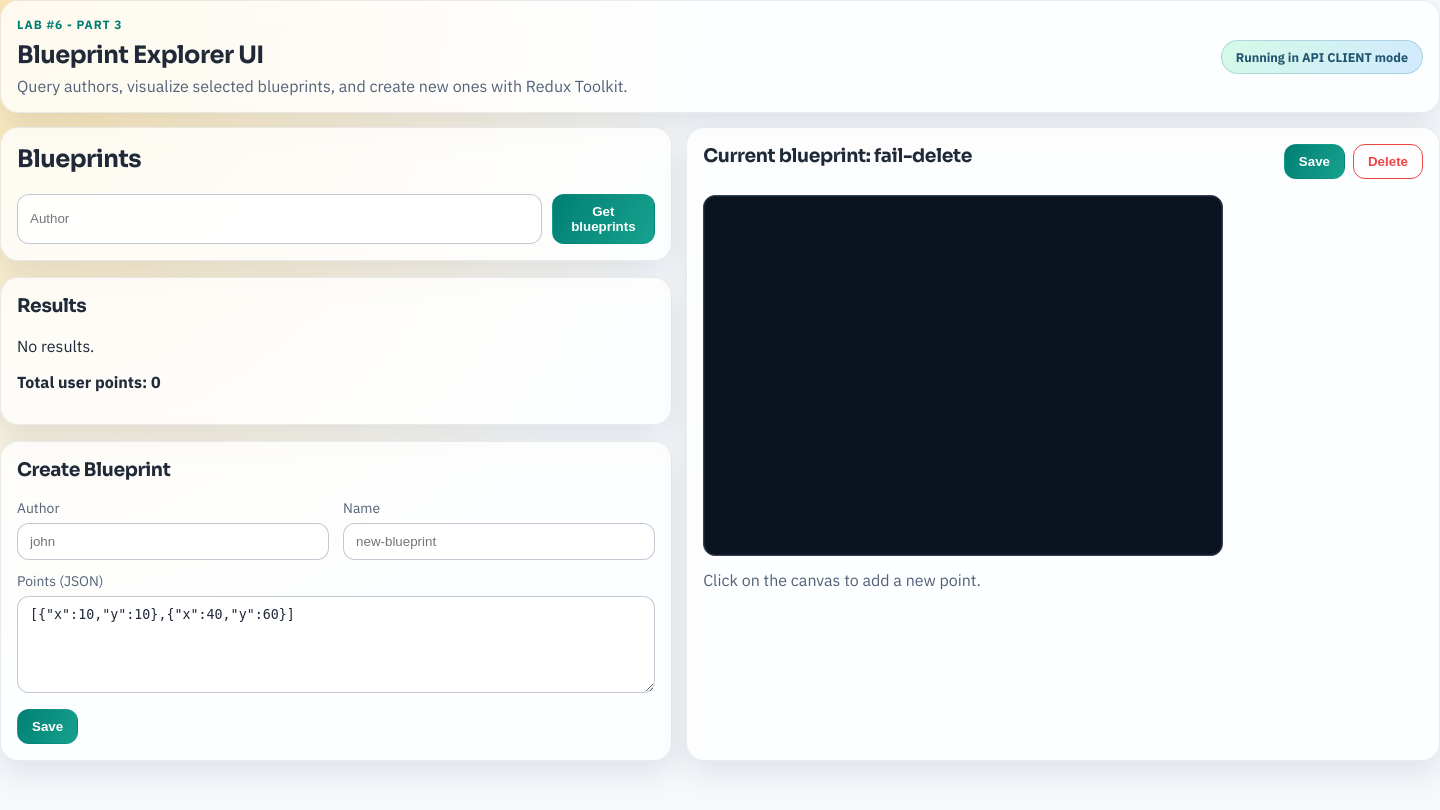
BlueprintsPage › shows delete error feedback when delete fails
The width and height of the screenshot is (1440, 810).
Click the button "Delete".
click(1388, 162)  # box [1353, 144, 1423, 179]
(page scrolled)
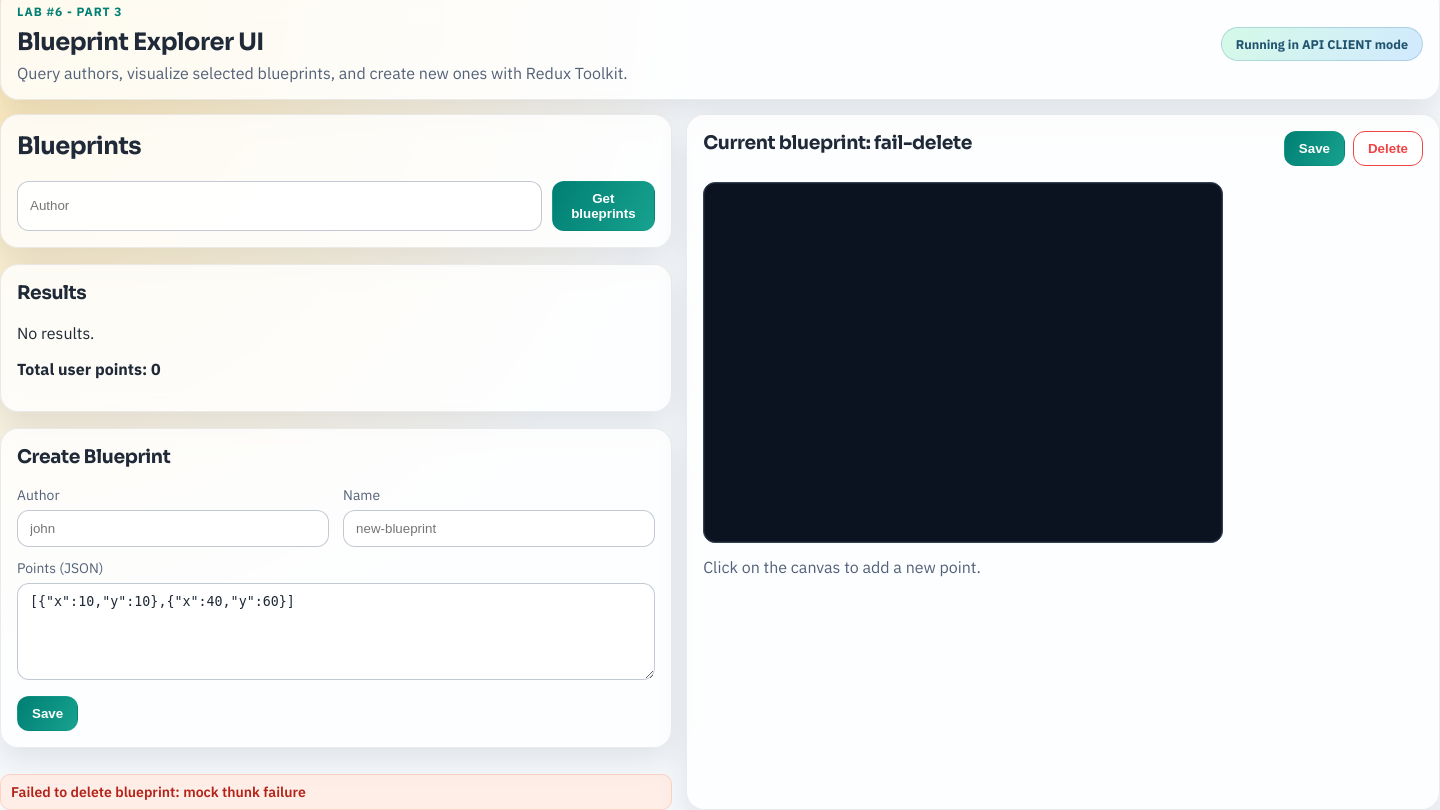
expect the text "Failed to delete blueprint: mock thunk failure" is shown: met, box [0, 774, 672, 809]
